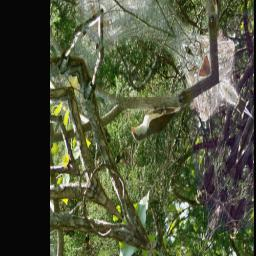Cuckoo: (127, 61, 194, 174)
